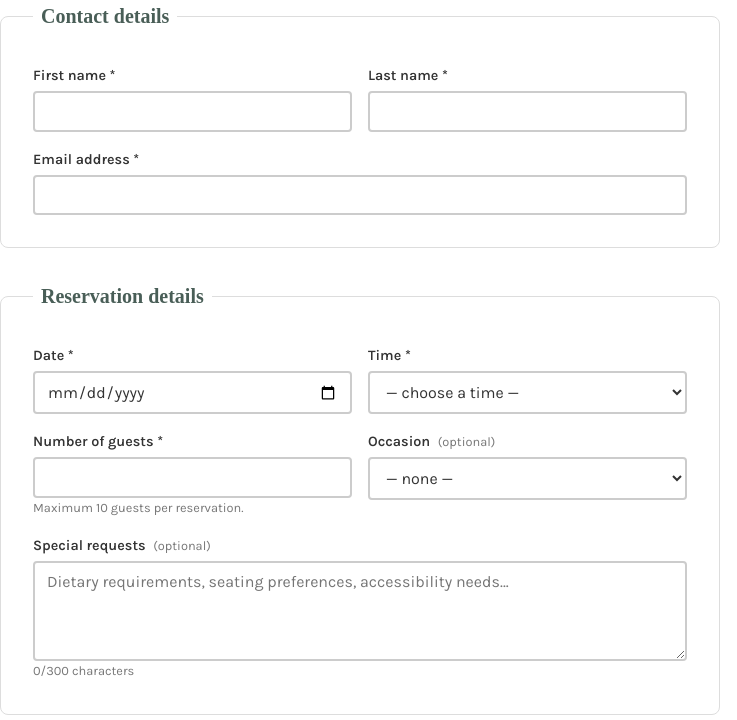
Scenario: BookingForm field validation — invalid states › first name: error for a single character
Type "A" into the field labelled "First name *".
click(192, 111); type("A")  # box x1=33 y1=91 x2=352 y2=132
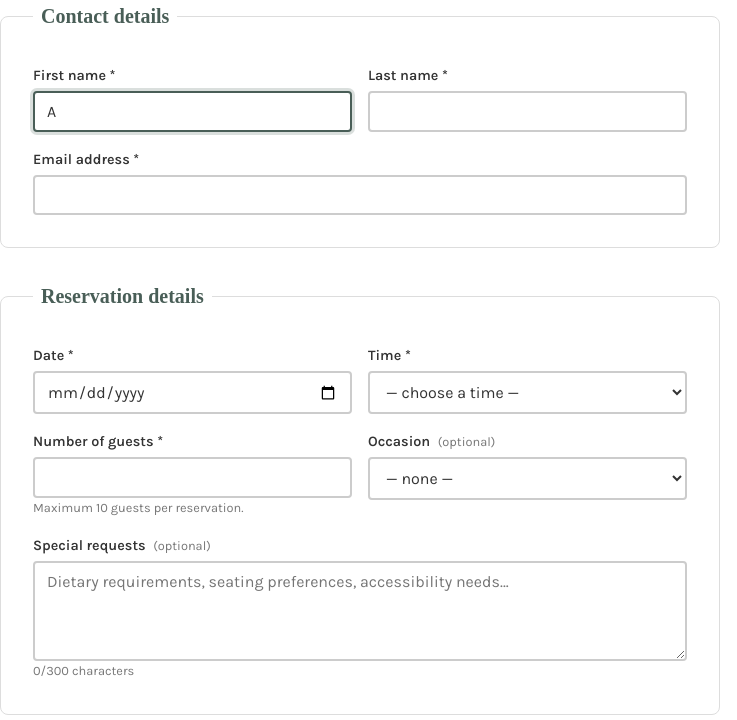
Leave the field labelled "First name *", box x1=33 y1=91 x2=352 y2=132
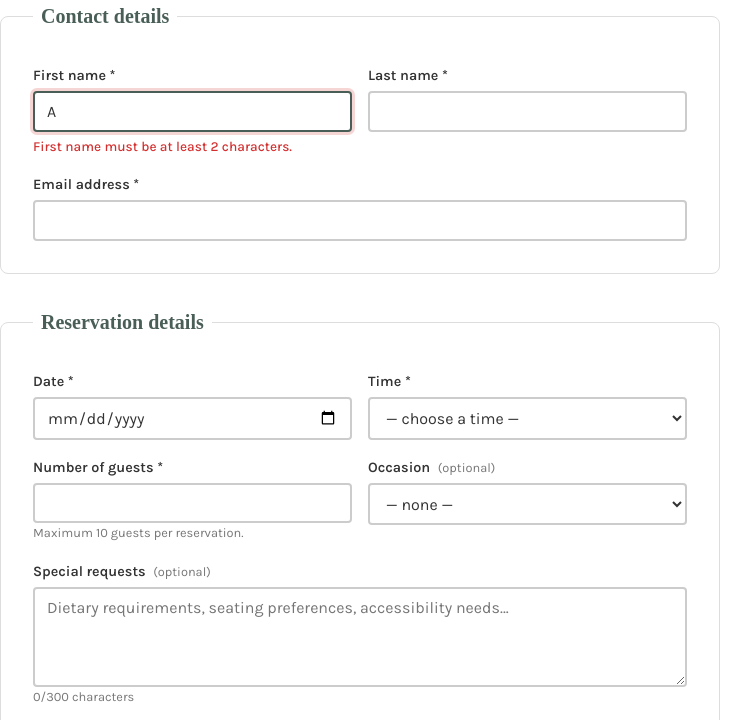
Expected: the text "First name must be at least 2 characters." is shown, x1=33 y1=139 x2=292 y2=154
